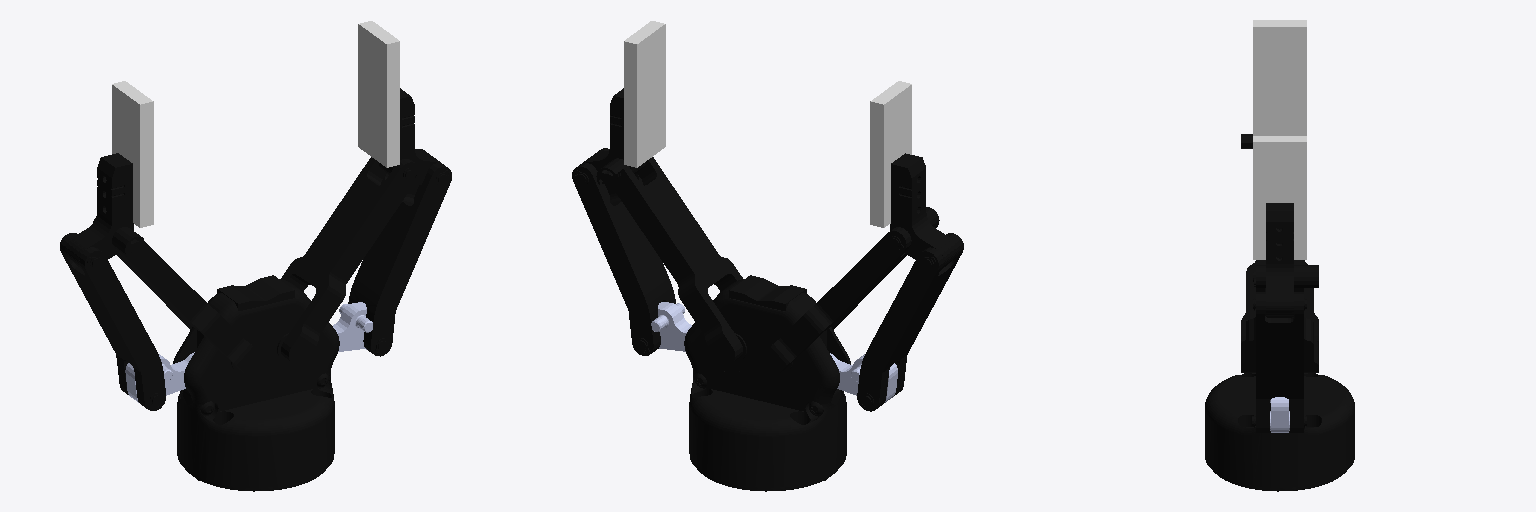
--- Facts derived from the render (not from the file) ---
Views: 3 orthographic renders of the robot side by side, from view 1: azimuth 30°, elevation 25°; view 2: azimuth 150°, elevation 25°; view 3: azimuth 270°, elevation 25°.
Robot: xmate3gripper — 30 links, 29 joints (7 revolute, 2 prismatic, 20 fixed); root link world; default pose: all joints at 0.
Links seen in each view (by area): view 1: robotiq_arg2f_base_link, right_inner_knuckle, right_outer_finger, left_outer_finger, right_inner_finger_pad, left_inner_knuckle, left_inner_finger_pad, left_inner_finger, right_inner_finger, right_outer_knuckle, left_outer_knuckle; view 2: robotiq_arg2f_base_link, right_inner_knuckle, right_outer_finger, left_outer_finger, left_inner_knuckle, right_inner_finger_pad, left_inner_finger_pad, left_inner_finger, right_outer_knuckle, right_inner_finger, left_outer_knuckle; view 3: robotiq_arg2f_base_link, left_inner_finger_pad, right_outer_finger, right_inner_finger_pad, right_inner_finger, right_inner_knuckle, left_inner_knuckle, right_outer_knuckle.
Boxes of the visible links, box(x1,y1,x2,y2) form: robotiq_arg2f_base_link: box(173, 275, 339, 491); right_inner_knuckle: box(281, 157, 419, 364); right_outer_finger: box(348, 149, 451, 356); left_outer_finger: box(60, 233, 165, 410); right_inner_finger_pad: box(358, 21, 399, 167); left_inner_knuckle: box(93, 218, 263, 375); left_inner_finger_pad: box(112, 81, 153, 227); left_inner_finger: box(65, 153, 133, 267); right_inner_finger: box(378, 88, 443, 184); right_outer_knuckle: box(333, 302, 372, 351); left_outer_knuckle: box(125, 352, 194, 402); robotiq_arg2f_base_link: box(684, 275, 850, 491); right_inner_knuckle: box(596, 157, 742, 364); right_outer_finger: box(572, 148, 675, 355); left_outer_finger: box(857, 233, 963, 411); left_inner_knuckle: box(760, 207, 939, 375); right_inner_finger_pad: box(624, 21, 665, 167); left_inner_finger_pad: box(870, 81, 911, 227); left_inner_finger: box(890, 153, 958, 267); right_outer_knuckle: box(651, 302, 691, 351); right_inner_finger: box(583, 88, 645, 183); left_outer_knuckle: box(830, 353, 897, 402); robotiq_arg2f_base_link: box(1205, 373, 1354, 491); left_inner_finger_pad: box(1253, 20, 1306, 135); right_outer_finger: box(1252, 292, 1306, 432); right_inner_finger_pad: box(1253, 136, 1306, 259); right_inner_finger: box(1266, 203, 1293, 315); right_inner_knuckle: box(1241, 265, 1318, 372); left_inner_knuckle: box(1241, 134, 1318, 342); right_outer_knuckle: box(1270, 397, 1289, 432).
Bounding box of the posed robot: 0.2024 × 0.075 × 0.2122 m (x, y, z).
9 mesh visuals loaded from 15 distinct referenced files (5 Collada DAE); not drawn: 11 (reference not matched to a file when rendering).

The robot description file, URDF, robot "xmate3gripper":
<?xml version="1.0" encoding="utf-8"?>
<robot
  name="xmate3gripper">
  <material name="black">
    <color rgba="0.0 0.0 0.0 1.0"/>
  </material>
  <material name="blue">
    <color rgba="0.0 0.0 0.8 1.0"/>
  </material>
  <material name="green">
    <color rgba="0.0 0.8 0.0 1.0"/>
  </material>
  <material name="grey">
    <color rgba="0.2 0.2 0.2 1.0"/>
  </material>
  <material name="orange">
    <color rgba="1.0 0.423529411765 0.0392156862745 1.0"/>
  </material>
  <material name="brown">
    <color rgba="0.870588235294 0.811764705882 0.764705882353 1.0"/>
  </material>
  <material name="red">
    <color rgba="0.8 0.0 0.0 1.0"/>
  </material>
  <material name="white">
    <color rgba="1.0 1.0 1.0 1.0"/>
  </material>
  <material name="Beige">
    <color rgba="1.0 0.784 0.5765 1.0"/>
  </material>
  <material name="aluminum">
    <color rgba="0.5 0.5 0.5 1"/>
  </material>
  <material name="plastic">
    <color rgba="0.1 0.1 0.1 1"/>
  </material>
  <!-- xmate3_base -->
  <link name="world">
  <inertial>
    <mass value="1"/>
    <inertia ixx="0.04" ixy="0.00" ixz="0.00" iyy="0.04" iyz="0.00" izz="0.02"/>
  </inertial>
  </link>
  <joint name="xmate3_base_joint" type="fixed">
    <origin rpy="0 0 0" xyz="0 0 0"/>
    <parent link="world"/>
    <child link="xmate3_base"/>
  </joint>
<!--   table -->
<!--  <link name="table">-->
<!--    <visual>-->
<!--      <geometry>-->
<!--        <mesh filename="optical_table/visual/optical_table.dae"/>-->
<!--      </geometry>-->
<!--    </visual>-->
<!--    <collision>-->
<!--      <geometry>-->
<!--        <mesh filename="optical_table/visual/optical_table.dae"/>-->
<!--      </geometry>-->
<!--    </collision>-->
<!--  </link>-->
<!--  <joint name="table_joint" type="fixed">-->
<!--    <parent link="world"/>-->
<!--    <child link="table"/>-->
<!--    <origin rpy="0.0 0.0 0.0" xyz="0.36 0.0 -0.06"/>-->
<!--  </joint>-->
  <!--base-->
  <link name="xmate3_base">
    <visual>
      <geometry>
        <mesh filename="xmate3_description/meshes/visual/xmate3_base.stl" scale="0.001 0.001 0.001"/>
      </geometry>
      <origin rpy="0 0 0" xyz="0 0 0"/>
      <material name="white"/>
    </visual>
    <inertial>
      <mass value="5.48267"/>
      <inertia ixx="0.056" ixy="0" ixz="0" iyy="0.066" iyz="0" izz="0.035"/>
      <origin rpy="0 0 0" xyz="-0.0183 0 0.067"/>
    </inertial>
    <collision>
      <geometry>
        <mesh filename="xmate3_description/meshes/collision/xmate3_base.stl" scale="0.001 0.001 0.001"/>
      </geometry>
      <origin rpy="0 0 0" xyz="0.0 0.0 0.0"/>
    </collision>
  </link>
  <joint name="joint1" type="revolute">
    <parent link="xmate3_base"/>
    <child link="xmate3_link1"/>
    <limit effort="300" lower="-3.0527" upper="3.0527" velocity="10"/>
    <axis xyz="0 0 1"/>
    <origin rpy="0 0 0" xyz="0 0 0"/>
  </joint>
  <transmission name="tran1">
    <type>transmission_interface/SimpleTransmission</type>
    <joint name="joint1">
      <hardwareInterface>EffortJointInterface</hardwareInterface>
    </joint>
    <actuator name="motor1">
      <hardwareInterface>EffortJointInterface</hardwareInterface>
      <mechanicalReduction>1</mechanicalReduction>
    </actuator>
  </transmission>
  <!--link 1-->
  <link name="xmate3_link1">
    <visual>
      <geometry>
        <mesh filename="xmate3_description/meshes/visual/xmate3_link1.stl" scale="0.001 0.001 0.001"/>
      </geometry>
      <origin rpy="0 0 0" xyz="0 0 0"/>
      <material name="white"/>
    </visual>
    <inertial>
      <mass value="3.37289"/>
      <inertia ixx="0.314" ixy="0" ixz="0" iyy="0.310" iyz="0" izz="0.01"/>
      <origin rpy="0 0 0" xyz="0 -0.023 0.295"/>
    </inertial>
    <collision>
      <geometry>
        <mesh filename="xmate3_description/meshes/collision/xmate3_link1.stl" scale="0.001 0.001 0.001"/>
      </geometry>
      <origin rpy="0 0 0" xyz="0 0 0"/>
    </collision>
  </link>
  <joint name="joint2" type="revolute">
    <parent link="xmate3_link1"/>
    <child link="xmate3_link2"/>
    <limit effort="300" lower="-2.0933" upper="2.0933" velocity="10"/>
    <axis xyz="0 1 0"/>
    <origin rpy="0 0 0" xyz="0 0 0.34260487"/>
  </joint>
  <transmission name="tran2">
    <type>transmission_interface/SimpleTransmission</type>
    <joint name="joint2">
      <hardwareInterface>EffortJointInterface</hardwareInterface>
    </joint>
    <actuator name="motor2">
      <hardwareInterface>EffortJointInterface</hardwareInterface>
      <mechanicalReduction>1</mechanicalReduction>
    </actuator>
  </transmission>
  <!--link 2-->
  <link name="xmate3_link2">
    <visual>
      <geometry>
        <mesh filename="xmate3_description/meshes/visual/xmate3_link2.stl" scale="0.001 0.001 0.001"/>
      </geometry>
      <origin rpy="0 0 0" xyz="0 0 0.0"/>
      <material name="white"/>
    </visual>
    <inertial>
      <mass value="3.74765"/>
      <inertia ixx="0.074" ixy="0" ixz="0" iyy="0.067" iyz="0" izz="0.014"/>
      <origin rpy="0 0 0" xyz="0 0.032 0.095"/>
    </inertial>
    <collision>
      <geometry>
        <mesh filename="xmate3_description/meshes/collision/xmate3_link2.stl" scale="0.001 0.001 0.001"/>
      </geometry>
      <origin rpy="0 0 0" xyz="0 0 0.0"/>
    </collision>
  </link>
  <joint name="joint3" type="revolute">
    <parent link="xmate3_link2"/>
    <child link="xmate3_link3"/>
    <limit effort="300" lower="-3.0527" upper="3.0527" velocity="10"/>
    <axis xyz="0 0 1"/>
    <origin rpy="0 0 0" xyz="0 0 0.23743878"/>
  </joint>
  <transmission name="tran3">
    <type>transmission_interface/SimpleTransmission</type>
    <joint name="joint3">
      <hardwareInterface>EffortJointInterface</hardwareInterface>
    </joint>
    <actuator name="motor3">
      <hardwareInterface>EffortJointInterface</hardwareInterface>
      <mechanicalReduction>1</mechanicalReduction>
    </actuator>
  </transmission>
  <!--link 3-->
  <link name="xmate3_link3">
    <visual>
      <geometry>
        <mesh filename="xmate3_description/meshes/visual/xmate3_link3.stl" scale="0.001 0.001 0.001"/>
      </geometry>
      <origin rpy="0 0 0" xyz="0 0 0.15549959"/>
      <material name="white"/>
    </visual>
    <inertial>
      <mass value="3.38216"/>
      <inertia ixx="0.028" ixy="0" ixz="0" iyy="0.025" iyz="0" izz="0.01"/>
      <origin rpy="0 0 0" xyz="0 -0.023 -0.048"/>
    </inertial>
    <collision>
      <geometry>
        <mesh filename="xmate3_description/meshes/visual/xmate3_link3.stl" scale="0.001 0.001 0.001"/>
      </geometry>
      <origin rpy="0 0 0" xyz="0 0 0.15549959"/>
    </collision>
  </link>
  <joint name="joint4" type="revolute">
    <parent link="xmate3_link3"/>
    <child link="xmate3_link4"/>
   <limit effort="300" lower="-2.0933" upper="2.0933" velocity="10"/>
<!--     lower="-2.79" upper="2.79" -->
    <axis xyz="0 1 0"/>
<!--     <origin rpy="0 0 0" xyz="0.585 0.0 0.035"/> -->
    <origin rpy="0 0 0" xyz="0 0 0.15549959"/>
  </joint>
  <transmission name="tran4">
    <type>transmission_interface/SimpleTransmission</type>
    <joint name="joint4">
      <hardwareInterface>EffortJointInterface</hardwareInterface>
    </joint>
    <actuator name="motor4">
      <hardwareInterface>EffortJointInterface</hardwareInterface>
      <mechanicalReduction>1</mechanicalReduction>
    </actuator>
  </transmission>
  <!--link 4-->
  <link name="xmate3_link4">
    <visual>
      <geometry>
        <mesh filename="xmate3_description/meshes/visual/xmate3_link4.stl" scale=".001 0.001 0.001"/>
      </geometry>
      <origin rpy="0 0 0" xyz="0.0 0.0 0.0"/>
      <material name="white"/>
    </visual>
    <inertial>
      <mass value="3.21031"/>
      <inertia ixx="0.027" ixy="0" ixz="0" iyy="0.024" iyz="0" izz="0.007"/>
      <origin rpy="0 0 0" xyz="0 0.037 0.075"/>
    </inertial>
    <collision>
      <geometry>
        <mesh filename="xmate3_description/meshes/collision/xmate3_link4.stl" scale="0.001 0.001 0.001"/>
      </geometry>
      <origin rpy="0 0 0" xyz="0.0 0.0 0.0"/>
    </collision>
  </link>
  <joint name="joint5" type="revolute">
    <parent link="xmate3_link4"/>
    <child link="xmate3_link5"/>
    <limit effort="300" lower="-3.0527" upper="3.0527" velocity="10"/>
    <axis xyz="0 0 1"/>
    <origin rpy="0 0 0" xyz="0 0 0.22044633"/>
  </joint>
  <transmission name="tran5">
    <type>transmission_interface/SimpleTransmission</type>
    <joint name="joint5">
      <hardwareInterface>EffortJointInterface</hardwareInterface>
    </joint>
    <actuator name="motor5">
      <hardwareInterface>EffortJointInterface</hardwareInterface>
      <mechanicalReduction>1</mechanicalReduction>
    </actuator>
  </transmission>
  <!--link 5-->
  <link name="xmate3_link5">
    <visual>
      <geometry>
        <mesh filename="xmate3_description/meshes/visual/xmate3_link5.stl" scale="0.001 0.001 0.001"/>
      </geometry>
      <origin rpy="0 0 0" xyz="0 0 0.14512568"/>
      <material name="white"/>
    </visual>
    <inertial>
      <mass value="1.7"/>
      <inertia ixx="0.022" ixy="0" ixz="0" iyy="0.018" iyz="0" izz="0.0076"/>
      <origin rpy="0 0 0" xyz="0 -0.025 -0.052"/>
    </inertial>
    <collision>
      <geometry>
        <mesh filename="xmate3_description/meshes/collision/xmate3_link5.stl" scale="0.001 0.001 0.001"/>
      </geometry>
      <origin rpy="0 0 0" xyz="0 0 0.14512568"/>
    </collision>
  </link>
  <joint name="joint6" type="revolute">
    <parent link="xmate3_link5"/>
    <child link="xmate3_link6"/>
    <limit effort="300" lower="-2.0933" upper="2.0933" velocity="10"/>
    <axis xyz="0 1 0"/>
    <origin xyz="0 0 0.14512568" rpy="0.0 0.0 0.0" />
  </joint>
  <transmission name="tran6">
    <type>transmission_interface/SimpleTransmission</type>
    <joint name="joint6">
      <hardwareInterface>EffortJointInterface</hardwareInterface>
    </joint>
    <actuator name="motor6">
      <hardwareInterface>EffortJointInterface</hardwareInterface>
      <mechanicalReduction>1</mechanicalReduction>
    </actuator>
  </transmission>
  <!--link 6-->
  <link name="xmate3_link6">
    <visual>
      <geometry>
        <mesh filename="xmate3_description/meshes/visual/xmate3_link6.stl" scale="0.001 0.001 0.001"/>
      </geometry>
      <origin rpy="0 0 0" xyz="0.0 0.0 0.0"/>
      <material name="white"/>
    </visual>
    <inertial>
      <mass value="2.6002"/>
      <inertia ixx="0.016" ixy="-0.000000" ixz="-0.000000" iyy="0.0156" iyz="-0.000000" izz="0.0042"/>
      <origin rpy="0 0 0" xyz="0 0.02 0.073"/>
    </inertial>
    <collision>
      <geometry>
        <mesh filename="xmate3_description/meshes/collision/xmate3_link6.stl" scale="0.001 0.001 0.001"/>
      </geometry>
      <origin rpy="0 0 0" xyz="0.0 0.0 0.0"/>
    </collision>
  </link>
  <joint name="joint7" type="revolute">
    <parent link="xmate3_link6"/>
    <child link="xmate3_link7"/>
    <limit effort="300" lower="-6.283" upper="2.993" velocity="10"/>
    <axis xyz="0 0 1"/>
    <origin xyz="0 0 0.25090877" rpy="0.0 0.0 0.0" />
  </joint>
  <transmission name="tran7">
    <type>transmission_interface/SimpleTransmission</type>
    <joint name="joint7">
      <hardwareInterface>EffortJointInterface</hardwareInterface>
    </joint>
    <actuator name="motor7">
      <hardwareInterface>EffortJointInterface</hardwareInterface>
      <mechanicalReduction>1</mechanicalReduction>
    </actuator>
  </transmission>
<!--link 7-->
  <link name="xmate3_link7">
    <visual>
      <geometry>
        <mesh filename="xmate3_description/meshes/visual/xmate3_link7.stl" scale="0.001 0.001 0.001"/>
      </geometry>
      <origin rpy="0 0 0" xyz="0.0 0.0 0"/>
      <material name="white"/>
    </visual>
    <inertial>
      <mass value="1.50517"/>
      <inertia ixx="0.0037" ixy="0" ixz="0" iyy="0.0021" iyz="0" izz="0.0030"/>
      <origin rpy="0 0 0" xyz="0 0.023 -0.044"/>
    </inertial>
    <collision>
      <geometry>
        <mesh filename="xmate3_description/meshes/collision/xmate3_link7.stl" scale="0.001 0.001 0.001"/>
      </geometry>
      <origin rpy="0 0 0" xyz="0.0 0.0 0"/>
    </collision>
  </link>
<!--robotiq adjusted gripper-->
  <link
    name="robotiq_connector">
    <inertial>
      <origin
        xyz="-0.0011437 0.013539 0.0070148"
        rpy="0 0 0" />
      <mass
        value="0.17371" />
      <inertia
        ixx="0.00015634"
        ixy="-2.6899E-06"
        ixz="-3.7656E-07"
        iyy="5.565E-05"
        iyz="1.4996E-06"
        izz="0.00020436" />
    </inertial>
    <visual>
      <origin
        xyz="0 0 0"
        rpy="0 0 0" />
      <geometry>
        <mesh
          filename="xmate3_description/meshes/robotiq_connector.STL" />
      </geometry>
      <material
        name="">
        <color
          rgba="0.89804 0.91765 0.92941 1" />
      </material>
    </visual>
    <collision>
      <origin
        xyz="0 0 0"
        rpy="0 0 0" />
      <geometry>
        <mesh
          filename="xmate3_description/meshes/robotiq_connector.STL" />
      </geometry>
    </collision>
  </link>
  <joint
    name="robotiq_connector_joint"
    type="fixed">
    <origin
      xyz="0 0 0"
      rpy="0 0 0" />
    <parent
      link="xmate3_link7" />
    <child
      link="robotiq_connector" />
    <axis
      xyz="0 0 0" />
  </joint>
  <joint
    name="robotiq_base_joint"
    type="fixed">
    <origin
      xyz="0 0 0.014"
      rpy="0 0 -1.5708" />
    <parent
      link="robotiq_connector" />
    <child
      link="robotiq_arg2f_base_link" />
    <axis
      xyz="0 0 0" />
  </joint>

<!-- eye-in-hand camera -->
  <joint name="realsense_hand_joint" type="fixed">
    <origin rpy="2.12574149 -1.55582192  2.58286879" xyz="0.04028231  0.07736792  0.01266915"/>
    <parent link="xmate3_link7"/>
    <child link="camera_hand_color_frame"/>
  </joint>
  <link name="camera_hand_link">
    <visual>
      <origin rpy="1.5707963267948966 0 1.5707963267948966" xyz="0.00987 -0.02 -0.02"/>
      <geometry>
        <mesh filename="realsense2_description/meshes/d415.stl"/>
      </geometry>
      <material name="aluminum"/>
    </visual>
    <collision>
      <origin rpy="0 0 0" xyz="0 -0.02 0"/>
      <geometry>
        <box size="0.02005 0.099 0.023"/>
      </geometry>
    </collision>
    <inertial>
      <mass value="0.564"/>
      <origin xyz="0 0 0"/>
      <inertia ixx="0.003881243" ixy="0.0" ixz="0.0" iyy="0.000498940" iyz="0.0" izz="0.003879257"/>
    </inertial>
  </link>

  <!-- camera color joints and links -->
  <joint name="camera_hand_color_joint" type="fixed">
    <origin xyz="0 -0.015 0" rpy="0 0 0"/>
    <parent link="camera_hand_color_frame"/>
    <child link="camera_hand_link"/>
  </joint>
  <link name="camera_hand_color_frame"/>

  <joint name="camera_hand_color_optical_joint" type="fixed">
    <origin xyz="0 0 0" rpy="-1.571 -0.000 -1.571"/>
    <parent link="camera_hand_color_frame"/>
    <child link="camera_hand_color_optical_frame"/>
  </joint>
  <link name="camera_hand_color_optical_frame"/>
<!--  <gazebo reference="camera_hand_color_frame">-->
<!--    <sensor type="depth" name="camera_hand">-->
<!--      <camera>-->
<!--        <horizontal_fov>1.2108</horizontal_fov>-->
<!--        <image>-->
<!--          <width>1920</width>-->
<!--          <height>1080</height>-->
<!--        </image>-->
<!--        <clip>-->
<!--          <near>0.01</near>-->
<!--          <far>100</far>-->
<!--        </clip>-->
<!--      </camera>-->
<!--    </sensor>-->
<!--  </gazebo>-->
  <!-- Only used when processing real point cloud since it requires camera_hand_depth_optical_frame -->
  <joint name="camera_hand_depth_optical_joint" type="fixed">
    <origin xyz="-0.000 -0.015 -0.000" rpy="-1.573 0.003 -1.576"/>
    <parent link="camera_hand_color_frame"/>
    <child link="camera_hand_depth_optical_frame"/>
  </joint>
  <link name="camera_hand_depth_optical_frame"/>
 
  <!--  Begin Robotiq-140-->
  <link name="robotiq_arg2f_base_link">
    <inertial>
      <origin rpy="0 0 0" xyz="8.625E-08 -4.6583E-06 0.03145"/>
      <mass value="0.22652"/>
      <inertia ixx="0.00020005" ixy="-4.2442E-10" ixz="-2.9069E-10" iyy="0.00017832" iyz="-3.4402E-08"
               izz="0.00013478"/>
    </inertial>
    <visual>
      <origin rpy="0 0 0" xyz="0 0 0"/>
      <geometry>
        <mesh filename="robotiq_description/visual/robotiq_arg2f_base_link.dae"/>
      </geometry>
      <material name="">
        <color rgba="0.1 0.1 0.1 1"/>
      </material>
    </visual>
    <collision>
      <origin rpy="0 0 0" xyz="0 0 0"/>
      <geometry>
        <mesh filename="robotiq_description/collision/robotiq_arg2f_base_link.stl"/>
      </geometry>
    </collision>
  </link>
  <link name="grasp_convenient_link"/>
  <joint name="grasp_convenient_joint" type="fixed">
    <origin rpy="0 -1.57079 0" xyz="0 0 0.225"/>
    <parent link="robotiq_arg2f_base_link"/>
    <child link="grasp_convenient_link"/>
  </joint>
  <link name="left_outer_knuckle">
    <inertial>
      <origin rpy="0 0 0" xyz="-0.000200000000003065 0.0199435877845359 0.0292245259211331"/>
      <mass value="0.00853198276973456"/>
      <inertia ixx="2.89328108496468E-04" ixy="-1.57935047237397E-19" ixz="-1.93980378593255E-19"
               iyy="1.86719750325683E-04" iyz="-1.21858577871576E-04" izz="1.21905238907251E-04"/>
    </inertial>
    <visual>
      <origin rpy="0 0 0" xyz="0 0 0"/>
      <geometry>
        <mesh
            filename="robotiq_description/visual/robotiq_arg2f_140_outer_knuckle.dae"/>
      </geometry>
      <material name="">
        <color rgba="0.792156862745098 0.819607843137255 0.933333333333333 1"/>
      </material>
    </visual>
    <!--    <collision>-->
    <!--      <origin rpy="0 0 0" xyz="0 0 0"/>-->
    <!--      <geometry>-->
    <!--        <mesh-->
    <!--            filename="package://robotiq_2f_140_gripper_visualization/meshes/collision/robotiq_arg2f_140_outer_knuckle.stl"/>-->
    <!--      </geometry>-->
    <!--    </collision>-->
  </link>
  <link name="left_outer_finger">
    <inertial>
      <origin rpy="0 0 0" xyz="0.00030115855001899 0.0373907951953854 -0.0208027427000385"/>
      <mass value="0.022614240507152"/>
      <inertia ixx="1.52518312458174E-03" ixy="9.76583423954399E-10" ixz="-5.43838577022588E-10"
               iyy="6.17694243867776E-04" iyz="6.78636130740228E-04" izz="1.16494917907219E-03"/>
    </inertial>
    <visual>
      <origin rpy="0 0 0" xyz="0 0 0"/>
      <geometry>
        <mesh
            filename="robotiq_description/visual/robotiq_arg2f_140_outer_finger.dae"/>
      </geometry>
      <material name="">
        <color rgba="0.1 0.1 0.1 1"/>
      </material>
    </visual>
    <!--    <collision>-->
    <!--      <origin rpy="0 0 0" xyz="0 0 0"/>-->
    <!--      <geometry>-->
    <!--        <mesh-->
    <!--            filename="package://robotiq_2f_140_gripper_visualization/meshes/collision/robotiq_arg2f_140_outer_finger.stl"/>-->
    <!--      </geometry>-->
    <!--    </collision>-->
  </link>
  <link name="left_inner_finger">
    <inertial>
      <origin rpy="0 0 0" xyz="0.000299999999999317 0.0160078233491243 -0.0136945669206257"/>
      <mass value="0.0104003125914103"/>
      <inertia ixx="2.71909453810972E-04" ixy="1.35402465472579E-21" ixz="-7.1817349065269E-22"
               iyy="7.69100314106116E-05" iyz="6.74715432769696E-05" izz="2.30315190420171E-04"/>
    </inertial>
    <visual>
      <origin rpy="0 0 0" xyz="0 0 0"/>
      <geometry>
        <mesh
            filename="robotiq_description/visual/robotiq_arg2f_140_inner_finger.dae"/>
      </geometry>
      <material name="">
        <color rgba="0.1 0.1 0.1 1"/>
      </material>
    </visual>
  </link>
  <link name="left_inner_finger_pad">
    <visual>
      <origin rpy="0 0 0" xyz="0 0 0"/>
      <geometry>
        <box size="0.027 0.065 0.0075"/>
      </geometry>
      <material name="">
        <color rgba="0.9 0.9 0.9 1"/>
      </material>
    </visual>
    <collision>
      <origin rpy="0 0 0" xyz="0 0 0"/>
      <geometry>
        <box size="0.03 0.07 0.0075"/>
      </geometry>
      <material name="">
        <color rgba="0.9 0.0 0.0 1"/>
      </material>
    </collision>
  </link>
  <link name="left_inner_knuckle">
    <inertial>
      <origin rpy="0 0 0" xyz="0.000123011831763771 0.0507850843201817 0.00103968640075166"/>
      <mass value="0.0271177346495152"/>
      <inertia ixx="2.61910379223783E-03" ixy="-2.43616858946494E-05" ixz="-6.37789906117123E-09"
               iyy="2.8270243746167E-04" iyz="-5.37200748039765E-05" izz="2.83695868220296E-04"/>
    </inertial>
    <visual>
      <origin rpy="0 0 0" xyz="0 0 0"/>
      <geometry>
        <mesh
            filename="robotiq_description/visual/robotiq_arg2f_140_inner_knuckle.dae"/>
      </geometry>
      <material name="">
        <color rgba="0.1 0.1 0.1 1"/>
      </material>
    </visual>
  </link>
  <link name="right_outer_knuckle">
    <inertial>
      <origin rpy="0 0 0" xyz="-0.000200000000003065 0.0199435877845359 0.0292245259211331"/>
      <mass value="0.00853198276973456"/>
      <inertia ixx="2.89328108496468E-06" ixy="-1.57935047237397E-19" ixz="-1.93980378593255E-19"
               iyy="1.86719750325683E-06" iyz="-1.21858577871576E-06" izz="1.21905238907251E-06"/>
    </inertial>
    <visual>
      <origin rpy="0 0 0" xyz="0 0 0"/>
      <geometry>
        <mesh
            filename="robotiq_description/visual/robotiq_arg2f_140_outer_knuckle.dae"/>
      </geometry>
      <material name="">
        <color rgba="0.792156862745098 0.819607843137255 0.933333333333333 1"/>
      </material>
    </visual>
  </link>
  <link name="right_outer_finger">
    <inertial>
      <origin rpy="0 0 0" xyz="0.00030115855001899 0.0373907951953854 -0.0208027427000385"/>
      <mass value="0.022614240507152"/>
      <inertia ixx="1.52518312458174E-03" ixy="9.76583423954399E-10" ixz="-5.43838577022588E-10"
               iyy="6.17694243867776E-03" iyz="6.78636130740228E-04" izz="1.16494917907219E-03"/>
    </inertial>
    <visual>
      <origin rpy="0 0 0" xyz="0 0 0"/>
      <geometry>
        <mesh
            filename="robotiq_description/visual/robotiq_arg2f_140_outer_finger.dae"/>
      </geometry>
      <material name="">
        <color rgba="0.1 0.1 0.1 1"/>
      </material>
    </visual>
  </link>
  <link name="right_inner_finger">
    <inertial>
      <origin rpy="0 0 0" xyz="0.000299999999999317 0.0160078233491243 -0.0136945669206257"/>
      <mass value="0.0104003125914103"/>
      <inertia ixx="2.71909453810972E-03" ixy="1.35402465472579E-21" ixz="-7.1817349065269E-22"
               iyy="7.69100314106116E-04" iyz="6.74715432769696E-04" izz="2.30315190420171E-03"/>
    </inertial>
    <visual>
      <origin rpy="0 0 0" xyz="0 0 0"/>
      <geometry>
        <mesh
            filename="robotiq_description/visual/robotiq_arg2f_140_inner_finger.dae"/>
      </geometry>
      <material name="">
        <color rgba="0.1 0.1 0.1 1"/>
      </material>
    </visual>
  </link>
  <link name="right_inner_finger_pad">
    <visual>
      <origin rpy="0 0 0" xyz="0 0 0"/>
      <geometry>
        <box size="0.027 0.065 0.0075"/>
      </geometry>
      <material name="">
        <color rgba="0.9 0.9 0.9 1"/>
      </material>
    </visual>
    <collision>
      <origin rpy="0 0 0" xyz="0 0 0"/>
      <geometry>
        <box size="0.03 0.07 0.0075"/>
      </geometry>
      <material name="">
        <color rgba="0.9 0.0 0.0 1"/>
      </material>
    </collision>
  </link>
  <link name="right_inner_knuckle">
    <inertial>
      <origin rpy="0 0 0" xyz="0.000123011831763771 0.0507850843201817 0.00103968640075166"/>
      <mass value="0.0271177346495152"/>
      <inertia ixx="2.61910379223783E-02" ixy="-2.43616858946494E-04" ixz="-6.37789906117123E-06"
               iyy="2.8270243746167E-03" iyz="-5.37200748039765E-04" izz="2.83695868220296E-02"/>
    </inertial>
    <visual>
      <origin rpy="0 0 0" xyz="0 0 0"/>
      <geometry>
        <mesh
            filename="robotiq_description/visual/robotiq_arg2f_140_inner_knuckle.dae"/>
      </geometry>
      <material name="">
        <color rgba="0.1 0.1 0.1 1"/>
      </material>
    </visual>
  </link>

  <joint name="robotiq_2f_140_left_driver_joint" type="prismatic">
    <origin rpy="1.57079 0 0" xyz="0 -0.068 0.177"/>
    <parent link="robotiq_arg2f_base_link"/>
    <child link="left_inner_finger_pad"/>
    <axis xyz="0 0.35112344 -0.93632918"/>
    <limit effort="1000" lower="0" upper="0.06835" velocity="2.0"/>
  </joint>
  <joint name="robotiq_2f_140_right_driver_joint" type="prismatic">
    <origin rpy="1.57079 0 -3.14" xyz="0 0.068 0.177"/>
    <parent link="robotiq_arg2f_base_link"/>
    <child link="right_inner_finger_pad"/>
    <axis xyz="0 0.35112344 -0.93632918"/>
    <limit effort="1000" lower="0" upper="0.06835" velocity="2.0"/>
  </joint>

  <joint name="robotiq_2f_140_left_driver_mimic_joint" type="fixed">
    <origin rpy="2.29579632679 0 0" xyz="0 -0.030601 0.054905"/>
    <parent link="robotiq_arg2f_base_link"/>
    <child link="left_outer_knuckle"/>
    <axis xyz="-1 0 0"/>
<!--    <limit effort="1000" lower="0" upper="0.725" velocity="2.0"/>-->
<!--    <mimic joint="robotiq_2f_140_left_driver_joint" multiplier="-1" offset="0"/>-->
  </joint>
  <joint name="robotiq_2f_140_left_coupler_joint" type="fixed">
    <origin rpy="0 0 0" xyz="0 0.01821998610742 0.0260018192872234"/>
    <parent link="left_outer_knuckle"/>
    <child link="left_outer_finger"/>
    <axis xyz="1 0 0"/>
  </joint>
  <joint name="robotiq_2f_140_left_spring_link_joint" type="fixed">
    <origin rpy="2.29579632679 0 0.0" xyz="0 -0.0127 0.06142"/>
    <parent link="robotiq_arg2f_base_link"/>
    <child link="left_inner_knuckle"/>
    <axis xyz="-1 0 0"/>
<!--    <limit effort="1000" lower="0" upper="0.8757" velocity="2.0"/>-->
<!--    <mimic joint="robotiq_2f_140_left_driver_joint" multiplier="-1" offset="0"/>-->
  </joint>
  <joint name="robotiq_2f_140_left_pad_joint" type="fixed">
    <origin rpy="0 0 0" xyz="0 -0.0457554015893473 0.0272203446692936"/>
    <child link="left_inner_finger"/>
    <parent link="left_inner_finger_pad"/>
    <axis xyz="0 0 1"/>
  </joint>

  <joint name="robotiq_2f_140_right_driver_mimic_joint" type="fixed">
    <origin rpy="2.29579632679 0 3.14159265359" xyz="0 0.030601 0.054905"/>
    <parent link="robotiq_arg2f_base_link"/>
    <child link="right_outer_knuckle"/>
    <axis xyz="-1 0 0"/>
<!--    <limit effort="1000" lower="0.0" upper="0.725" velocity="2.0"/>-->
<!--    <mimic joint="robotiq_2f_140_left_driver_joint" multiplier="-1" offset="0"/>-->
  </joint>
  <joint name="robotiq_2f_140_right_coupler_joint" type="fixed">
    <origin rpy="0 0 0" xyz="0 0.01821998610742 0.0260018192872234"/>
    <parent link="right_outer_knuckle"/>
    <child link="right_outer_finger"/>
    <axis xyz="1 0 0"/>
  </joint>
  <joint name="robotiq_2f_140_right_spring_link_joint" type="fixed">
    <origin rpy="2.29579632679 0 -3.14159265359" xyz="0 0.0127 0.06142"/>
    <parent link="robotiq_arg2f_base_link"/>
    <child link="right_inner_knuckle"/>
    <axis xyz="-1 0 0"/>
<!--    <limit effort="1000" lower="0" upper="0.8757" velocity="2.0"/>-->
<!--    <mimic joint="robotiq_2f_140_left_driver_joint" multiplier="-1" offset="0"/>-->
  </joint>
  <joint name="robotiq_2f_140_right_pad_joint" type="fixed">
    <origin rpy="0 0 0" xyz="0 -0.0457554015893473 0.0272203446692936"/>
    <child link="right_inner_finger"/>
    <parent link="right_inner_finger_pad"/>
    <axis xyz="0 0 1"/>
  </joint>
<!-- eye-on-base camera -->
  <joint name="realsense_base_joint" type="fixed">
    <!-- <origin rpy="-0.026407443096889277 0.5109299626903319 0.4578676884689042" xyz="0.05793063 -0.50792133 0.65201918"/> -->
    <origin rpy="-0.01909744  0.51414666  0.46018937" xyz="0.05880015 -0.51058289  0.64973008"/>
    <parent link="xmate3_base"/>
    <child link="camera_base_color_frame"/>
  </joint>
  <link name="camera_base_color_frame"/>

  <joint name="camera_base_color_joint" type="fixed">
    <origin xyz="0 -0.015 0" rpy="0.001 0.005 -0.012"/>
    <child link="camera_base_link"/>
    <parent link="camera_base_color_frame"/>
  </joint>
  <link name="camera_base_link">
    <visual>
      <origin rpy="1.5707963267948966 0 1.5707963267948966" xyz="0.00987 -0.02 -0.02"/>
      <geometry>
        <mesh filename="realsense2_description/meshes/d415.stl"/>
      </geometry>
      <material name="aluminum"/>
    </visual>
    <collision>
      <origin rpy="0 0 0" xyz="0 -0.02 0"/>
      <geometry>
        <box size="0.02005 0.099 0.023"/>
      </geometry>
    </collision>
    <inertial>
      <mass value="0.564"/>
      <origin xyz="0 0 0"/>
      <inertia ixx="0.003881243" ixy="0.0" ixz="0.0" iyy="0.000498940" iyz="0.0" izz="0.003879257"/>
    </inertial>
  </link>
  <joint name="camera_base_color_optical_joint" type="fixed">
    <origin xyz="0 0 0" rpy="-1.571 -0.000 -1.571"/>
    <parent link="camera_base_color_frame"/>
    <child link="camera_base_color_optical_frame"/>
  </joint>
  <link name="camera_base_color_optical_frame"/>

<!--  <gazebo reference="camera_base_color_frame">-->
<!--    <sensor type="depth" name="camera_base">-->
<!--      <camera>-->
<!--        <horizontal_fov>1.2108</horizontal_fov>-->
<!--        <image>-->
<!--          <width>1920</width>-->
<!--          <height>1080</height>-->
<!--        </image>-->
<!--        <clip>-->
<!--          <near>0.01</near>-->
<!--          <far>100</far>-->
<!--        </clip>-->
<!--      </camera>-->
<!--    </sensor>-->
<!--  </gazebo>-->
  <!-- Only used when processing real point cloud since it requires camera_base_depth_optical_frame -->
  <joint name="camera_base_depth_optical_joint" type="fixed">
    <origin xyz="-0.000 -0.015 -0.000" rpy="-1.576 0.001 -1.583"/>
    <parent link="camera_base_color_frame"/>
    <child link="camera_base_depth_optical_frame"/>
  </joint>
  <link name="camera_base_depth_optical_frame"/>

</robot>
